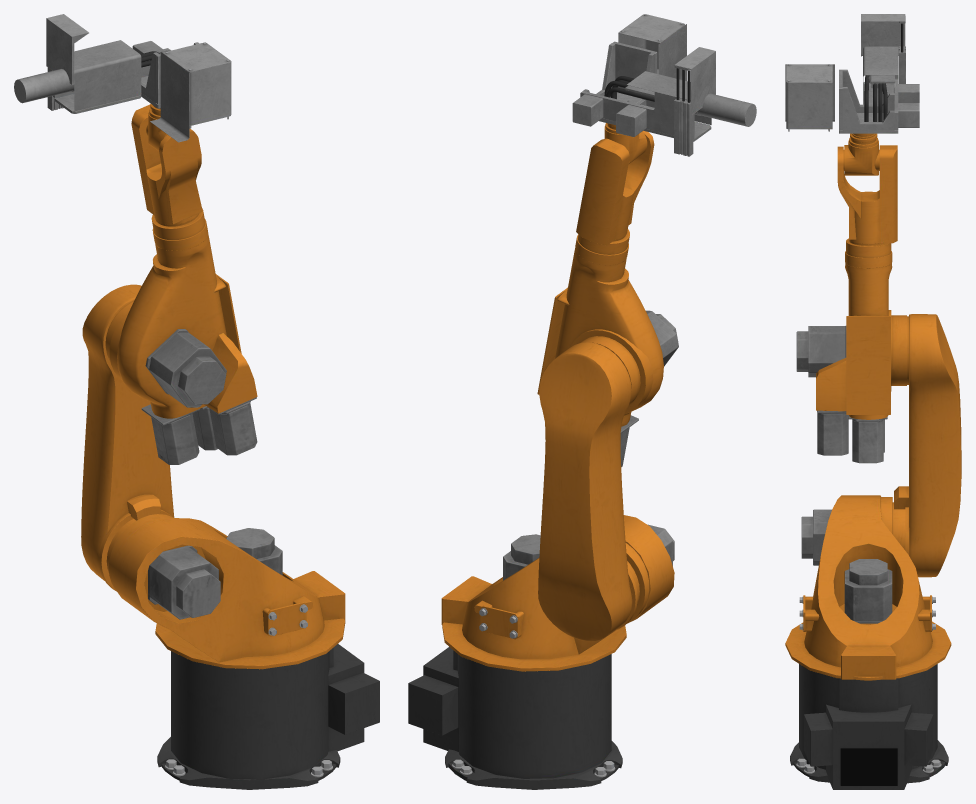
File: Arm.glb
3 views of the same model, side by side, from view 1: azimuth 30°, elevation 25°; view 2: azimuth 150°, elevation 25°; view 3: azimuth 270°, elevation 25° (orthographic). The views are drawn at different scales.
Visible parts, largest first — view 1: Arm_1, Arm_2, Arm_4, Arm_6, Arm_3, Arm_4_metal, Arm2_metal; view 2: Arm_3, Arm_1, Arm_4, Arm_2, Arm_6, Arm2_metal, Arm_4_metal, Arm_6_code, Arm_5; view 3: Arm_2, Arm_1, Arm_4, Arm_3, Arm_6, Arm_4_metal, Arm2_metal, Arm_5, Arm_6_code, Arm_1_bolt.
Part boxes in pixels (x1,y1,x2,y2): Arm_1: (157, 644, 379, 789); Arm_2: (106, 514, 345, 669); Arm_4: (105, 104, 257, 418); Arm_6: (14, 14, 231, 142); Arm_3: (81, 284, 174, 591); Arm_4_metal: (141, 329, 257, 464); Arm2_metal: (148, 528, 282, 619); Arm_3: (538, 342, 637, 641); Arm_1: (408, 647, 622, 789); Arm_4: (537, 130, 663, 426); Arm_2: (441, 515, 674, 671); Arm_6: (572, 14, 756, 156); Arm2_metal: (503, 524, 674, 580); Arm_4_metal: (620, 310, 678, 466); Arm_6_code: (604, 68, 690, 102); Arm_5: (604, 123, 647, 163); Arm_2: (785, 495, 951, 680); Arm_1: (790, 664, 948, 789); Arm_4: (816, 145, 906, 419); Arm_3: (894, 314, 961, 577); Arm_6: (785, 14, 919, 133); Arm_4_metal: (796, 326, 887, 463); Arm2_metal: (801, 509, 892, 623); Arm_5: (843, 133, 879, 175); Arm_6_code: (864, 23, 903, 121); Arm_1_bolt: (796, 758, 941, 773).
Size of the model in its own units: 1.3 by 2.95 by 0.7089.
1 material, 1 textured.
